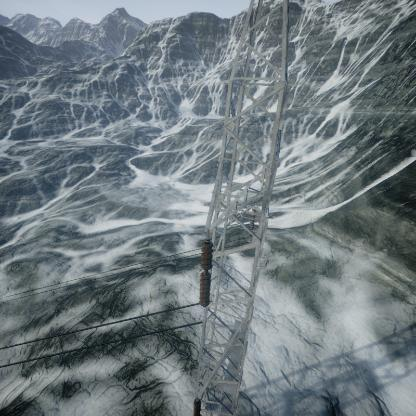insulator: (197, 238, 215, 308)
